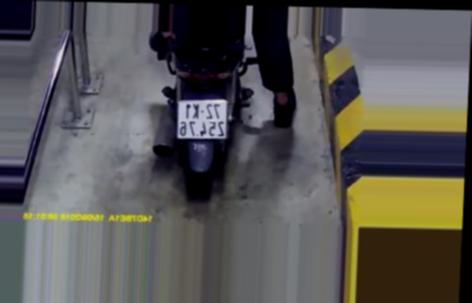License_Plate: (175, 96, 232, 142)
